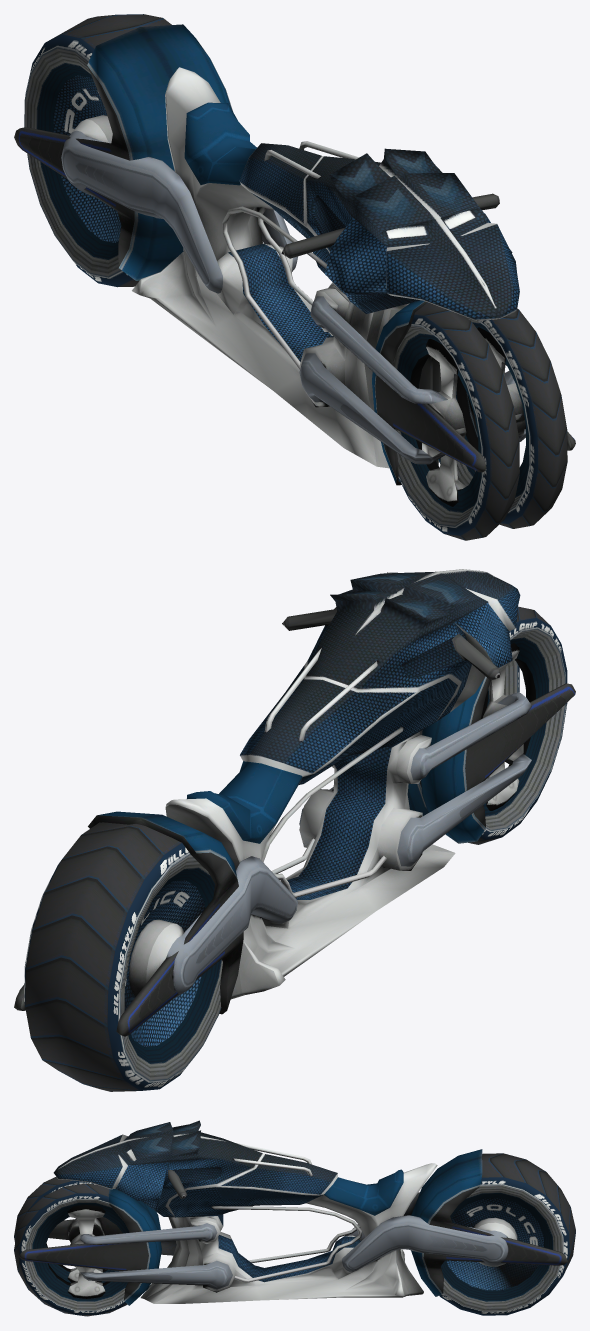
Rendered from Future_Police_Bike.obj.
3 renders of one model, top to bottom at view 1: azimuth 30°, elevation 25°; view 2: azimuth 150°, elevation 25°; view 3: azimuth 270°, elevation 25°, orthographic. The views are drawn at different scales.
Size of the model in its own units: 1.59 by 2.12 by 5.95.
1 material, 1 textured.
